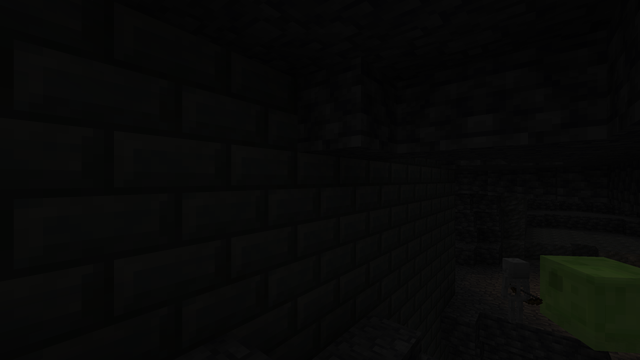slimes: (552, 250, 636, 356)
squelettes: (503, 256, 527, 328)
